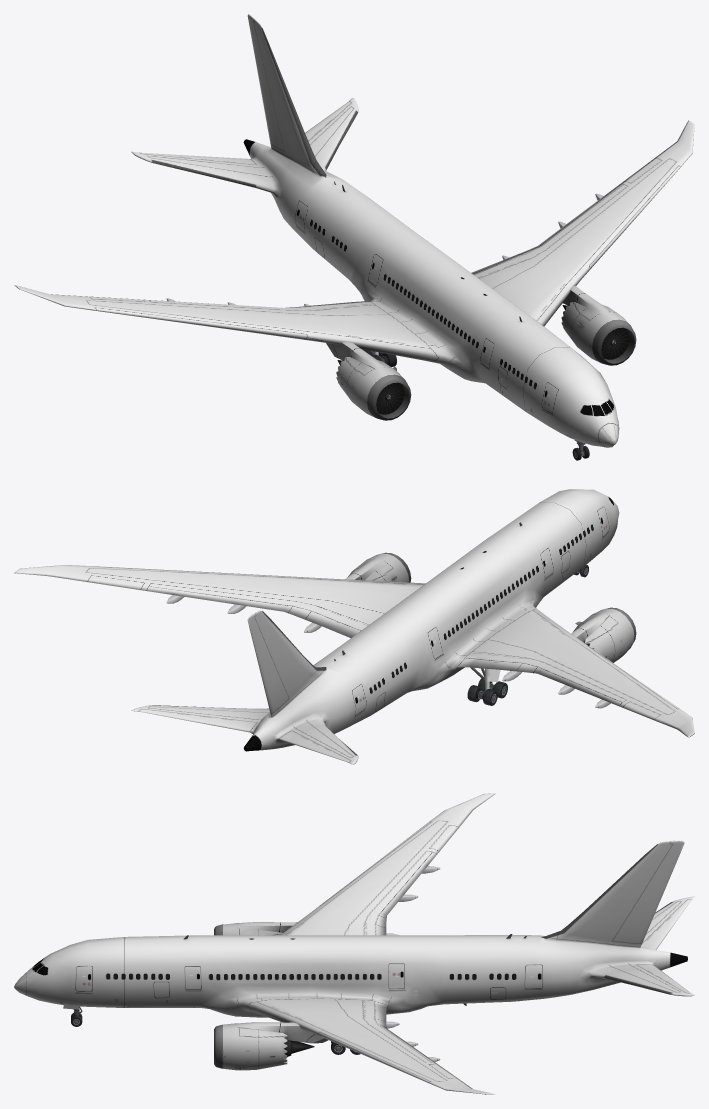
The picture shows the model from 3 angles, top to bottom: view 1: azimuth 30°, elevation 25°; view 2: azimuth 150°, elevation 25°; view 3: azimuth 270°, elevation 25°; orthographic projection. The views are drawn at different scales.
Parts seen in each view (by area): view 1: fuselage, engine; view 2: fuselage, engine, wheel, aileron; view 3: fuselage, engine.
Part boxes in pixels (x1,y1,x2,y2): fuselage: [14, 14, 694, 447]; engine: [326, 285, 636, 420]; fuselage: [14, 489, 694, 764]; engine: [345, 552, 636, 662]; wheel: [467, 678, 507, 705]; aileron: [166, 595, 610, 708]; fuselage: [14, 793, 694, 1094]; engine: [214, 922, 328, 1070].
Bounding box in the file's own units: 5862 × 1682 × 5613.
